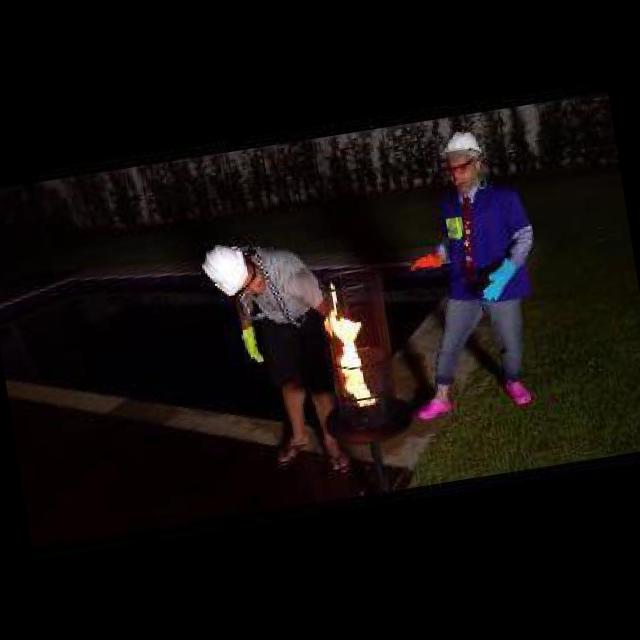Fire: (324, 285, 379, 406)
